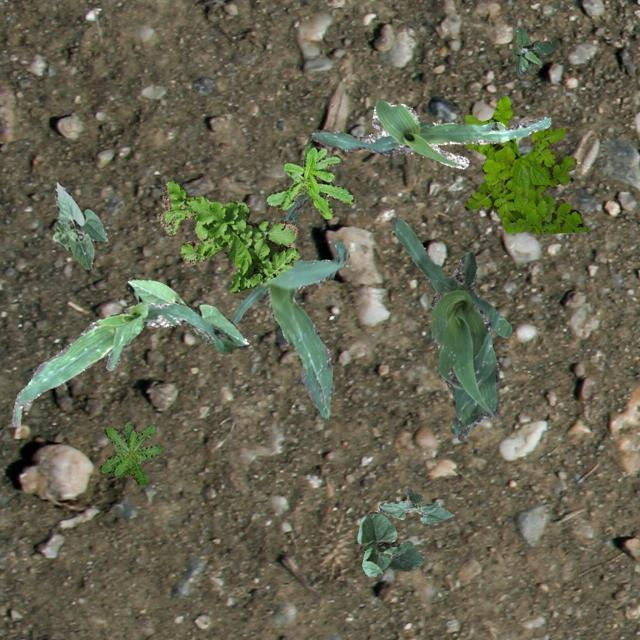crop: (11, 302, 234, 426), (230, 190, 348, 418), (390, 216, 510, 440), (310, 100, 550, 168), (126, 278, 248, 348), (52, 182, 106, 268), (357, 510, 422, 576), (378, 488, 453, 524)
weed: (462, 95, 588, 232), (156, 178, 298, 292), (266, 144, 352, 218), (98, 420, 162, 486), (511, 26, 556, 74)
